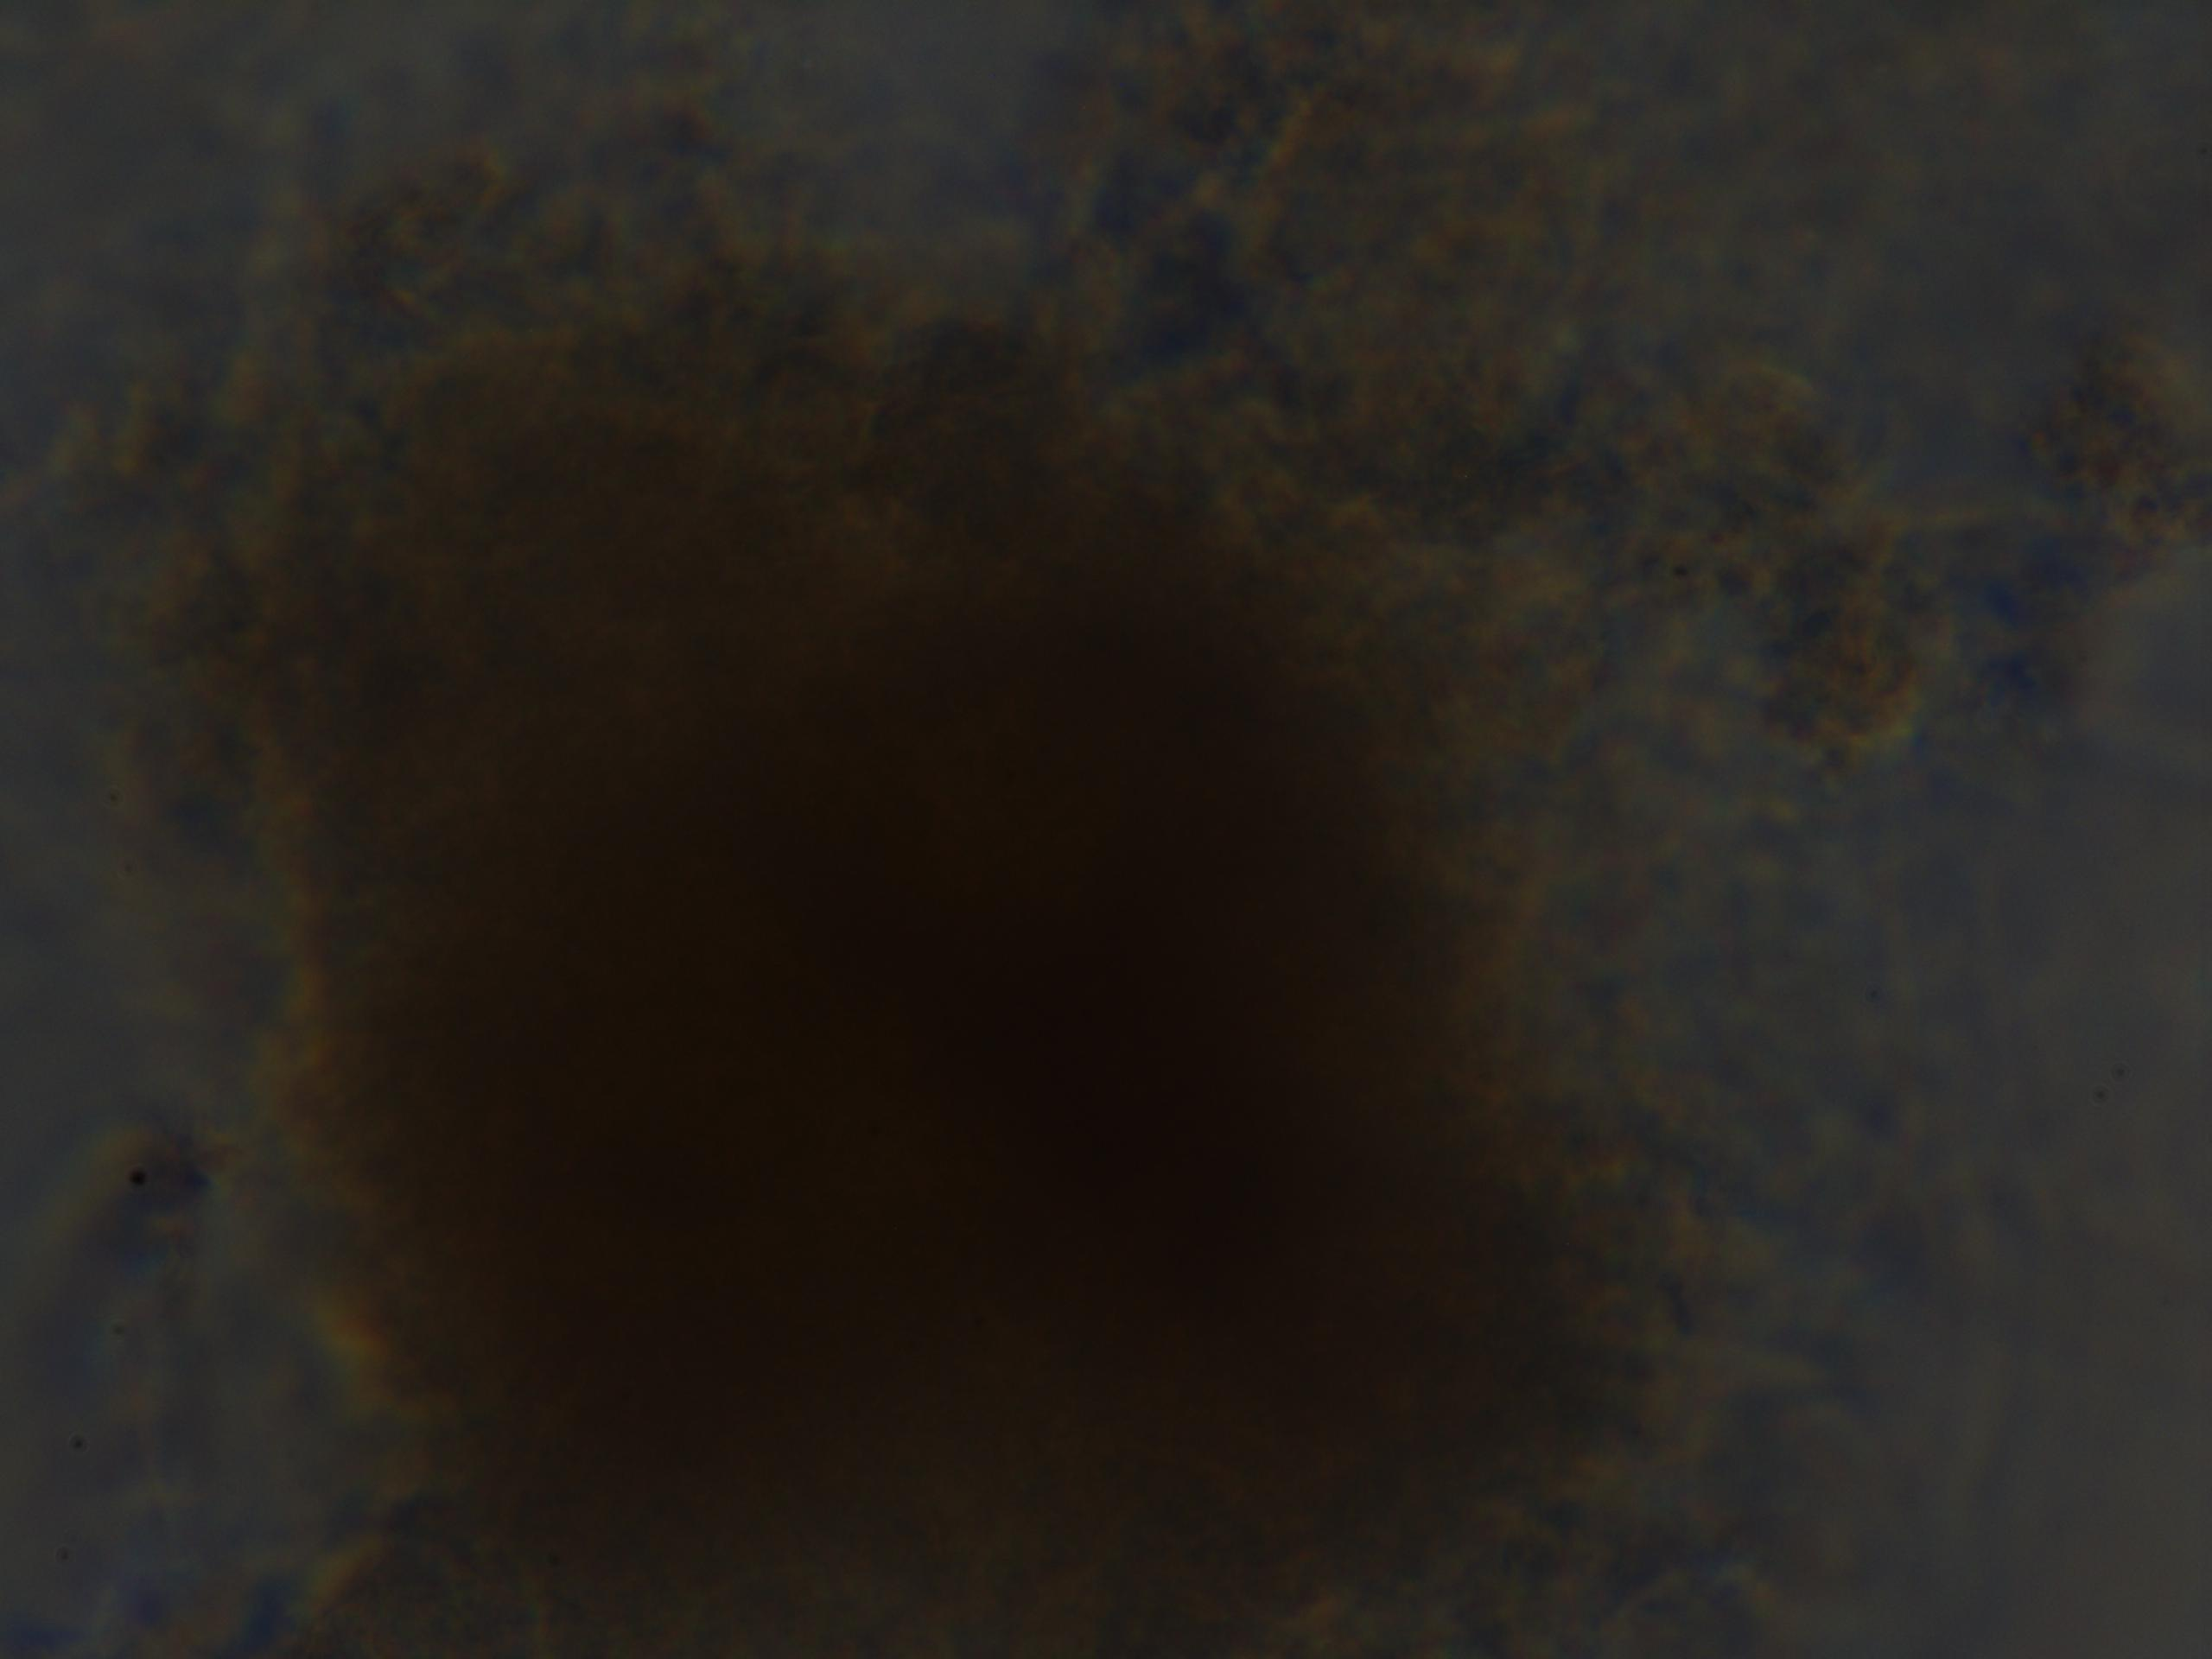spherical_floc: (178, 213, 1728, 1659)
